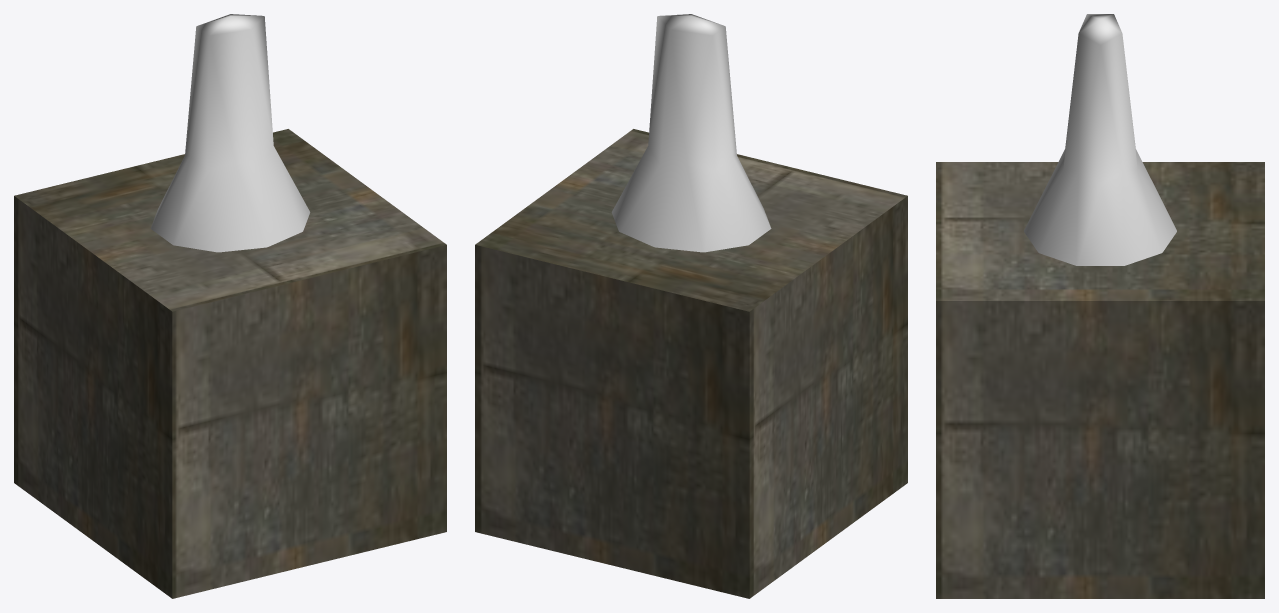
The model's file is donationchest.glb.
3 views of the same model, side by side, from view 1: azimuth 30°, elevation 25°; view 2: azimuth 150°, elevation 25°; view 3: azimuth 270°, elevation 25° (orthographic). The views are drawn at different scales.
Visible parts, largest first — view 1: Cube, bronze; view 2: Cube, bronze; view 3: Cube, bronze.
Boxes of the visible parts, <box> form: Cube: <box>14,129,446,598</box>; bronze: <box>150,14,310,252</box>; Cube: <box>475,129,907,598</box>; bronze: <box>611,14,771,252</box>; Cube: <box>936,162,1264,598</box>; bronze: <box>1024,14,1176,265</box>.
Size of the model in its own units: 2 by 3.42 by 2.
1 material, 1 textured.
